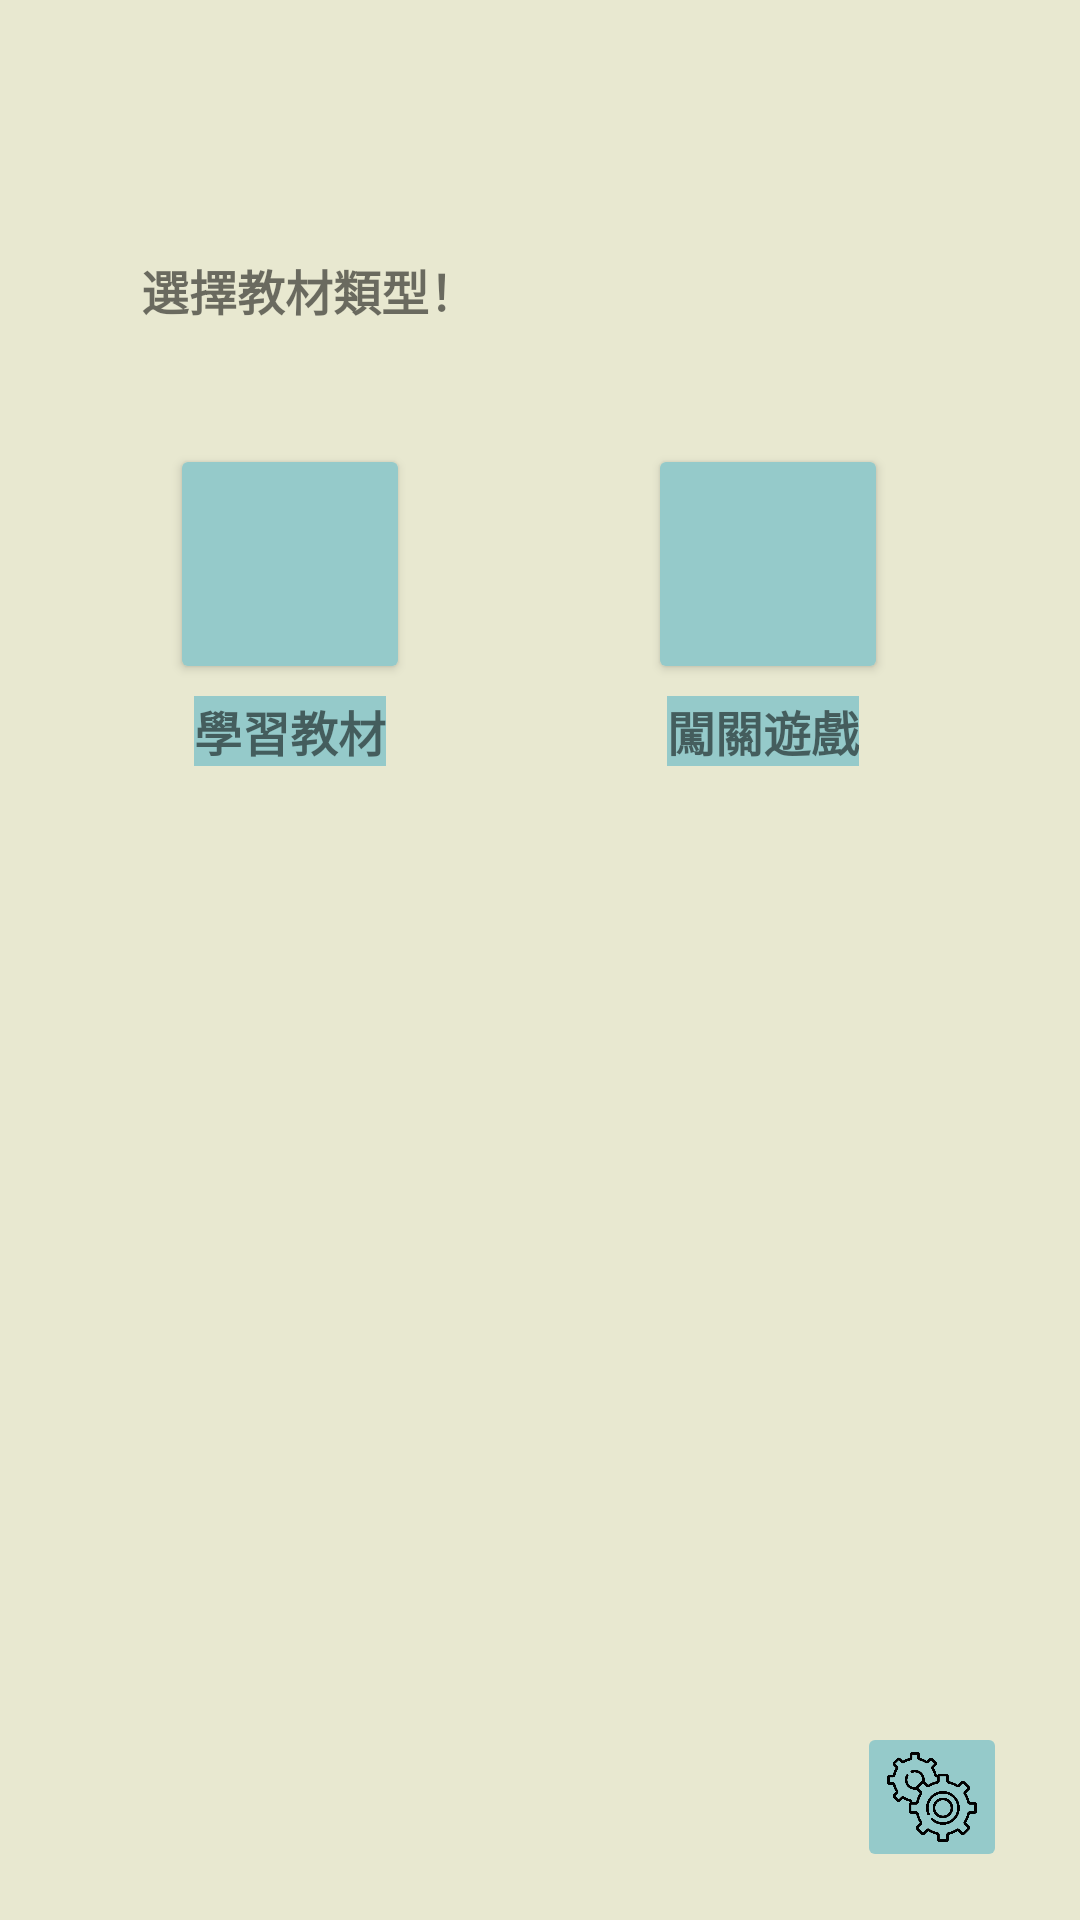

Where icons sit on this 1080 × 1920 app screen, as [x1=x1, y1=y1, x2=x2, y2=y2]:
system: [x1=869, y1=1740, x2=995, y2=1854]
